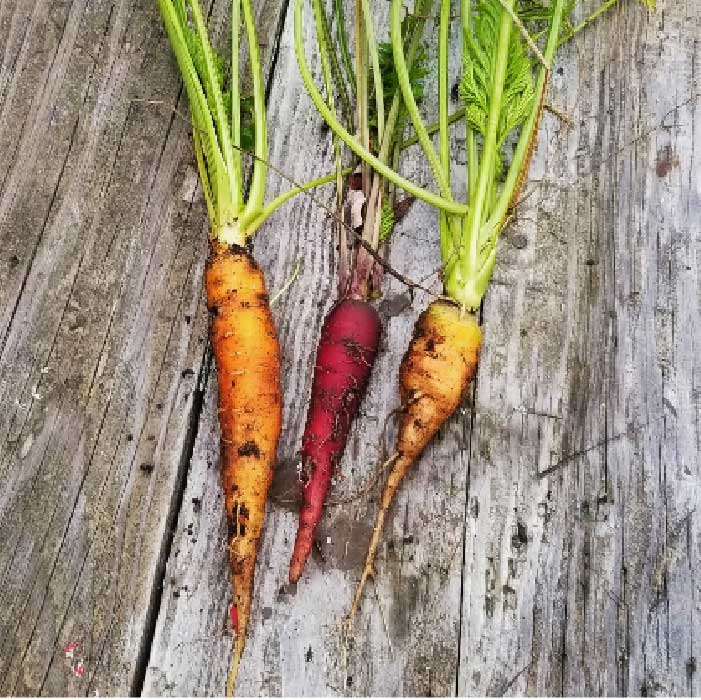Karotte: (206, 243, 284, 635)
